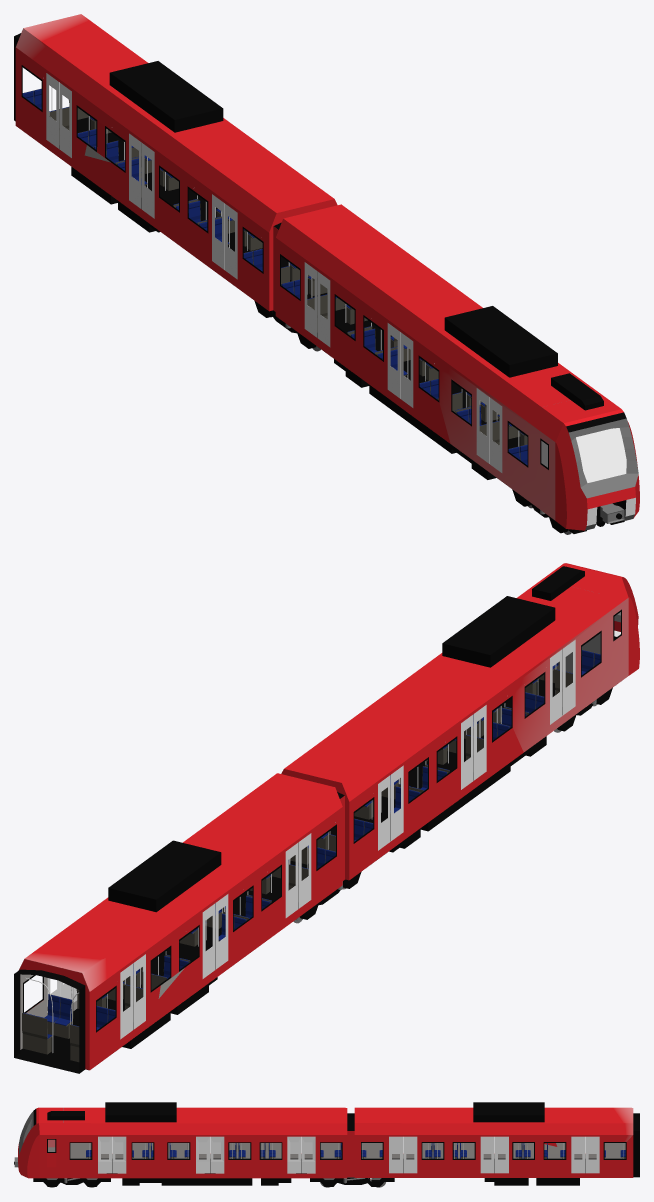
The model's file is train.fbx.
The picture shows the model from 3 angles, top to bottom: view 1: azimuth 30°, elevation 25°; view 2: azimuth 150°, elevation 25°; view 3: azimuth 270°, elevation 25°; orthographic projection. The views are drawn at different scales.
Visible parts, largest first — view 1: TrainExterior, Vent.001, Vent, Vent2, Block; view 2: TrainExterior, Vent.001, Vent, Vent2, Block; view 3: TrainExterior, Vent, Vent.001, Block, Vent2, Block.006, Block.007, Cube.010.
Boxes of the visible parts, bbox=[...] form: TrainExterior: bbox=[14, 14, 639, 530]; Vent.001: bbox=[109, 61, 223, 132]; Vent: bbox=[444, 306, 557, 377]; Vent2: bbox=[551, 373, 603, 410]; Block: bbox=[369, 385, 456, 453]; TrainExterior: bbox=[14, 563, 639, 1073]; Vent.001: bbox=[108, 840, 221, 912]; Vent: bbox=[442, 596, 555, 667]; Vent2: bbox=[532, 566, 584, 600]; Block: bbox=[420, 762, 510, 831]; TrainExterior: bbox=[18, 1107, 639, 1178]; Vent: bbox=[105, 1102, 176, 1122]; Vent.001: bbox=[473, 1102, 544, 1122]; Block: bbox=[161, 1178, 252, 1185]; Vent2: bbox=[47, 1111, 84, 1120]; Block.006: bbox=[536, 1178, 579, 1185]; Block.007: bbox=[494, 1178, 528, 1185]; Cube.010: bbox=[337, 1177, 370, 1184].
Bounding box in the file's own units: 306 × 534 × 4076.
